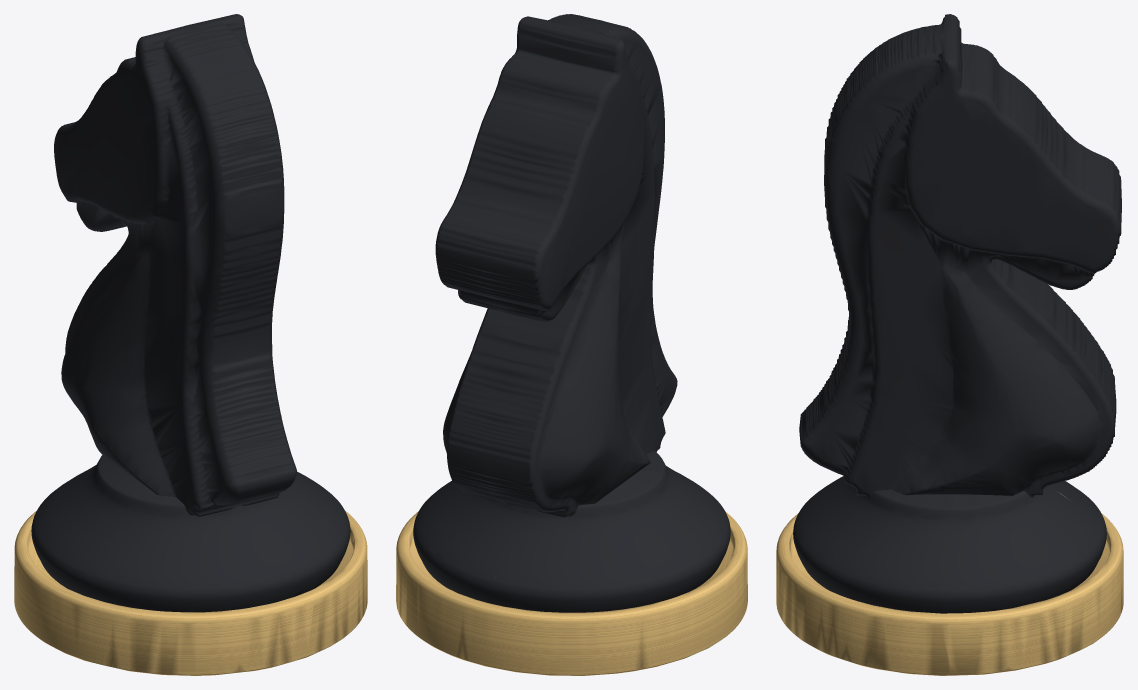
The model's file is knight-black-hd.glb.
3 views of the same model, side by side, from view 1: azimuth 30°, elevation 25°; view 2: azimuth 150°, elevation 25°; view 3: azimuth 270°, elevation 25° (orthographic).
Visible parts, largest first — view 1: Aurum Noir – Knight; view 2: Aurum Noir – Knight; view 3: Aurum Noir – Knight.
Boxes of the visible parts, x1,y1,x2,y2 form: Aurum Noir – Knight: [14, 14, 367, 675]; Aurum Noir – Knight: [396, 14, 747, 675]; Aurum Noir – Knight: [776, 14, 1123, 675].
Bounding box in the file's own units: 0.6888 × 1.24 × 0.689.
Materials: 2 (1 with a texture image).
